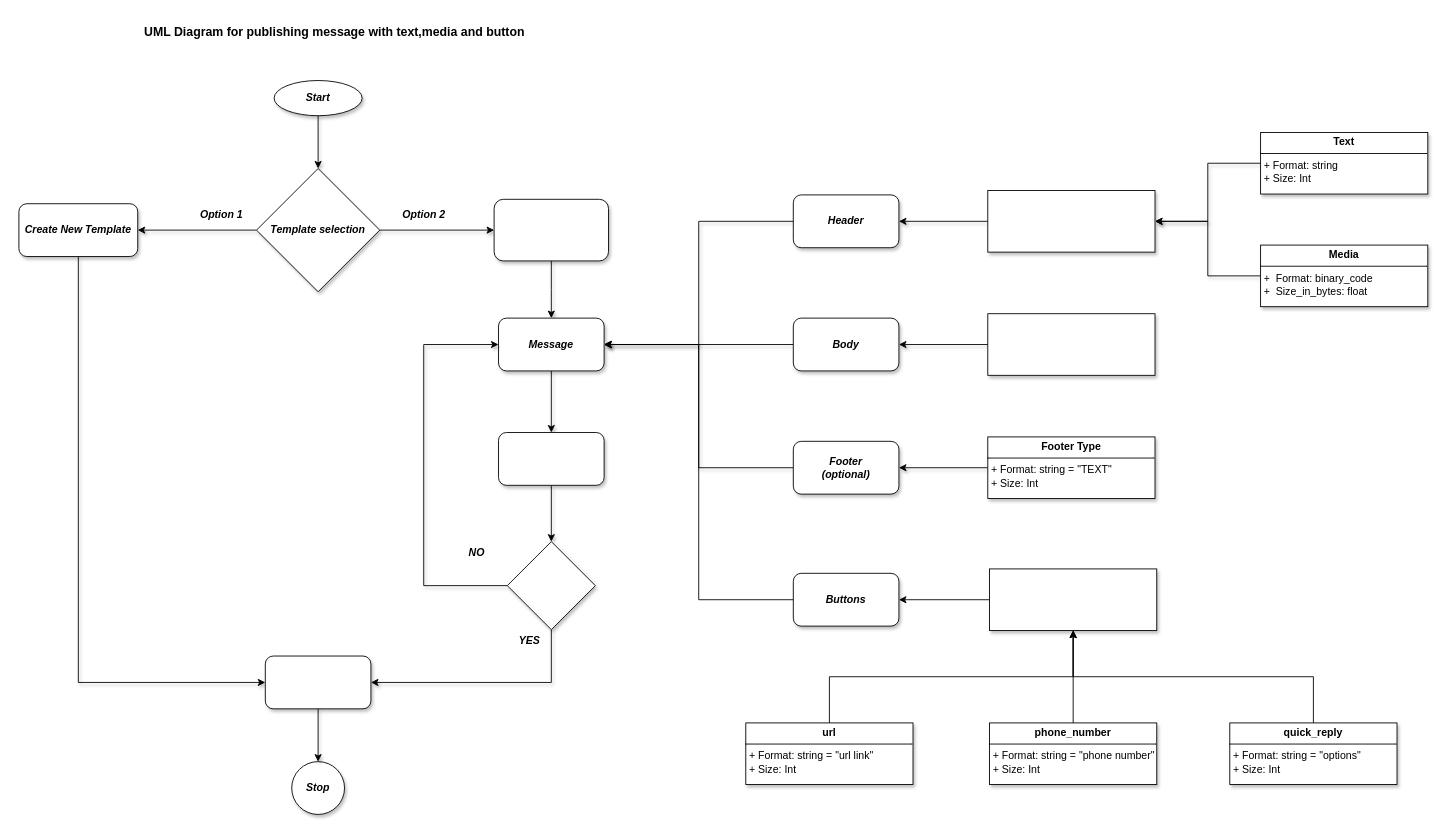
The diagram is 1448 pixels wide and 836 high, and some of its shapes have lost their labels. The shapes that lost their labels are listed below. From the top down, each one's centre as x and y in pixels, then its label:
[552,231]: Select template from existing template list
[1071,222]: Header Type + Format: string = "TEXT" + Size: Int
[1071,345]: Body Type + Format: string = "TEXT" + Size: Int
[551,459]: Preview Message
[552,586]: Confirmation
[1073,601]: Button Type + Format: string = "TEXT" + Size: Int
[318,683]: send message to user
